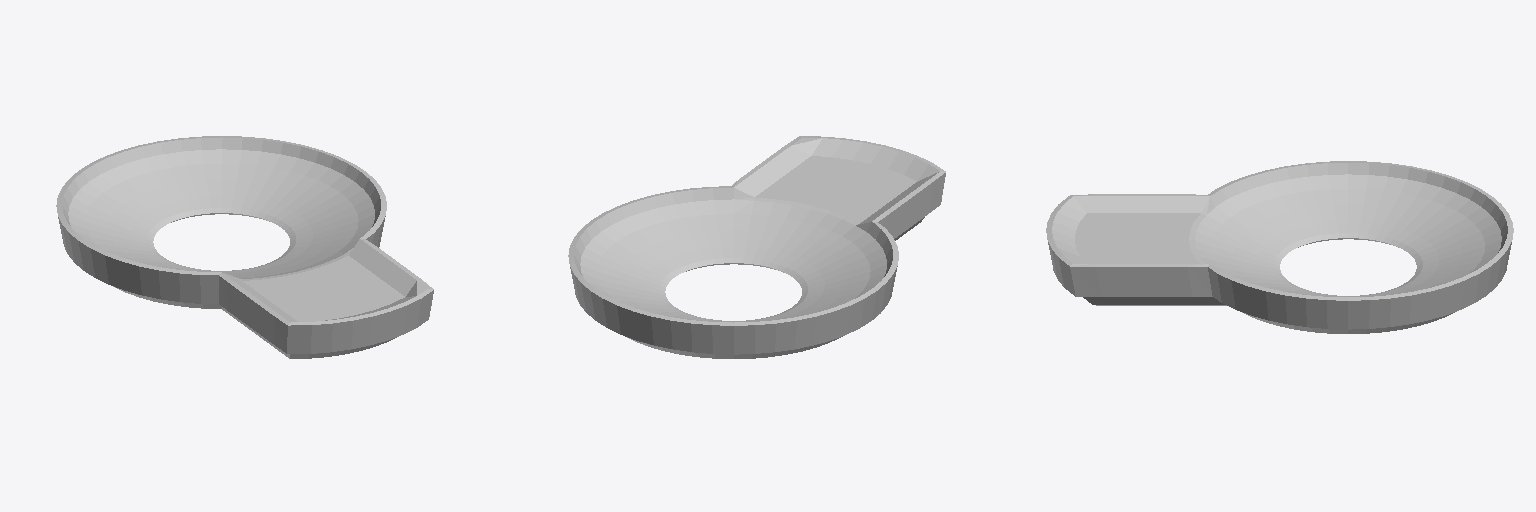
File: stage2.obj
3 renders of one model, left to right at view 1: azimuth 30°, elevation 25°; view 2: azimuth 150°, elevation 25°; view 3: azimuth 270°, elevation 25°, orthographic.
Visible parts, largest first — view 1: 2_Torus.001; view 2: 2_Torus.001; view 3: 2_Torus.001.
Boxes of the visible parts, x1=… form: 2_Torus.001: x1=56, y1=136, x2=433, y2=358; 2_Torus.001: x1=568, y1=136, x2=945, y2=358; 2_Torus.001: x1=1046, y1=161, x2=1513, y2=333.
Size of the model in its own units: 14.51 by 2.52 by 20.51.